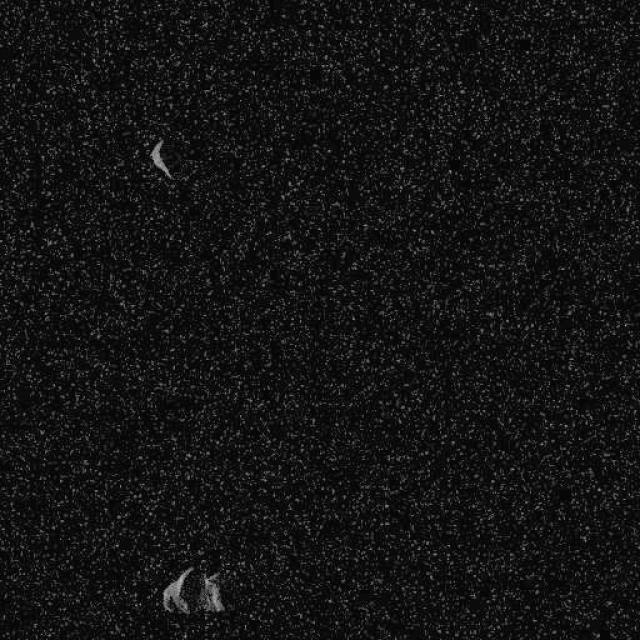D2: (160, 564, 225, 616), (148, 136, 174, 180)
